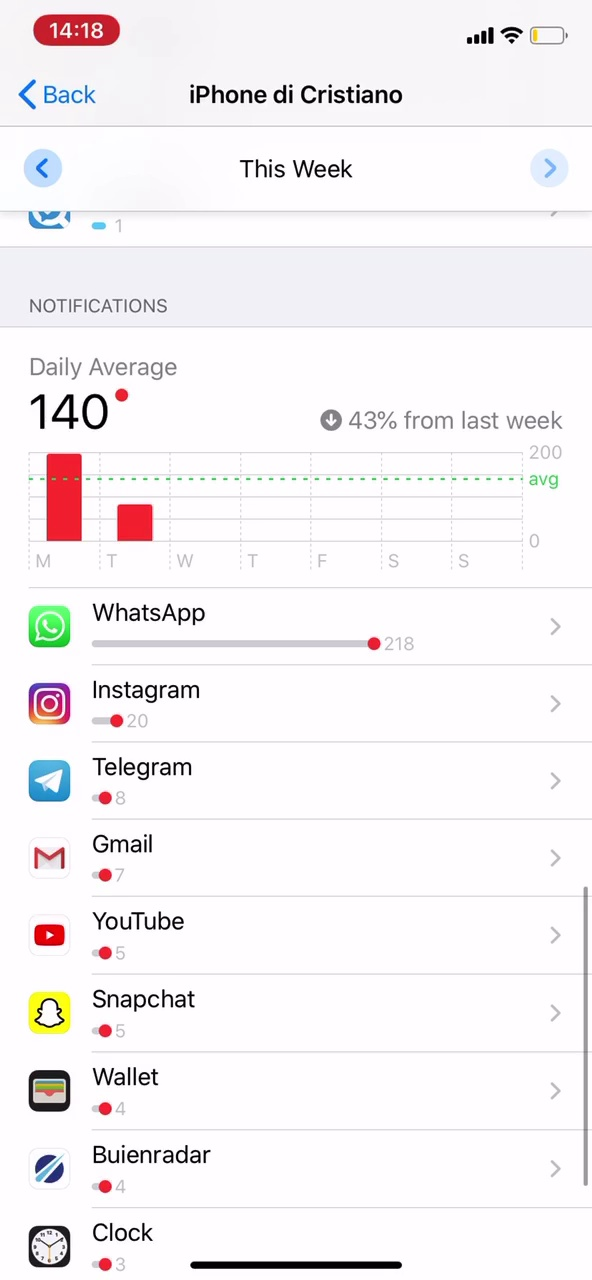not_app: (22, 583, 461, 669), (22, 741, 304, 824), (14, 975, 318, 1050), (15, 1132, 292, 1208), (12, 1050, 281, 1128), (22, 822, 306, 894), (23, 897, 292, 972), (23, 672, 301, 742)
not_over: (14, 258, 204, 439)
week: (223, 148, 370, 189)
